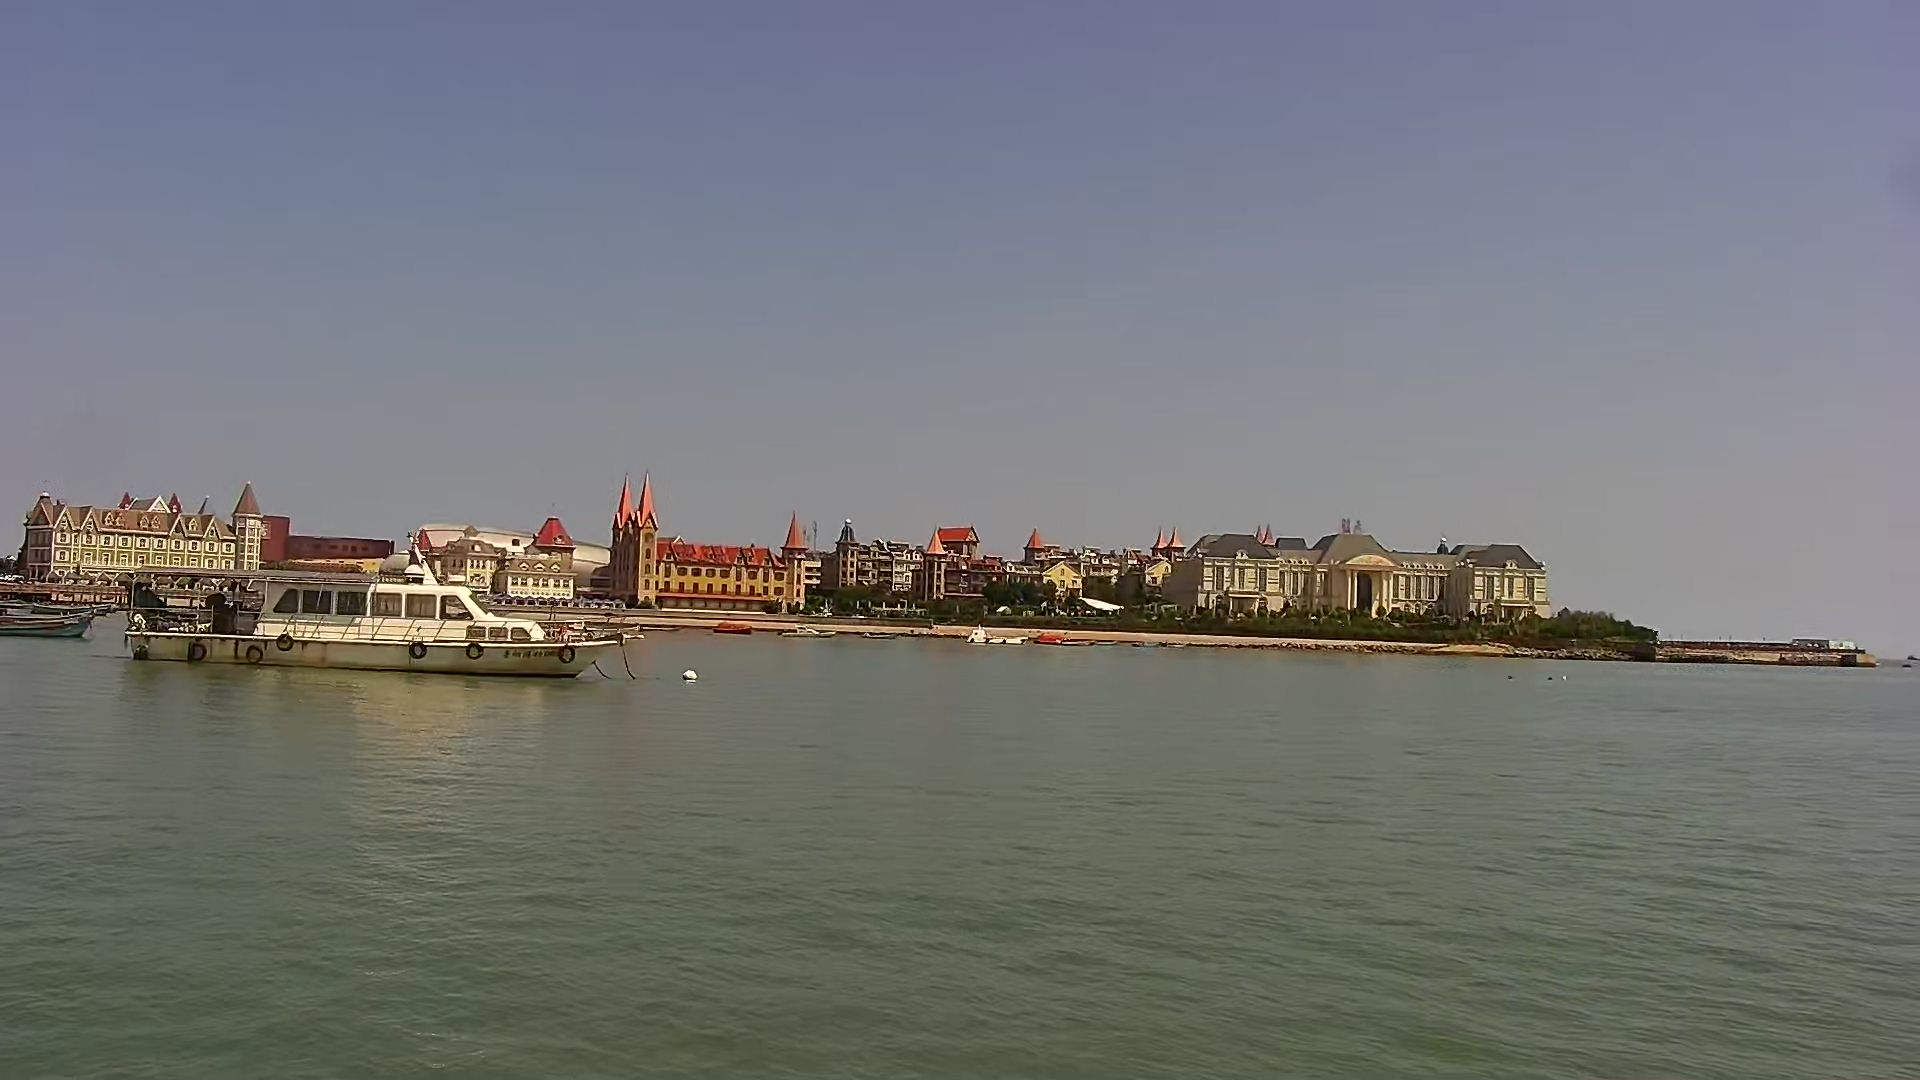ball: (678, 665, 700, 684)
boat: (1, 603, 104, 642)
ship: (123, 553, 632, 679)
